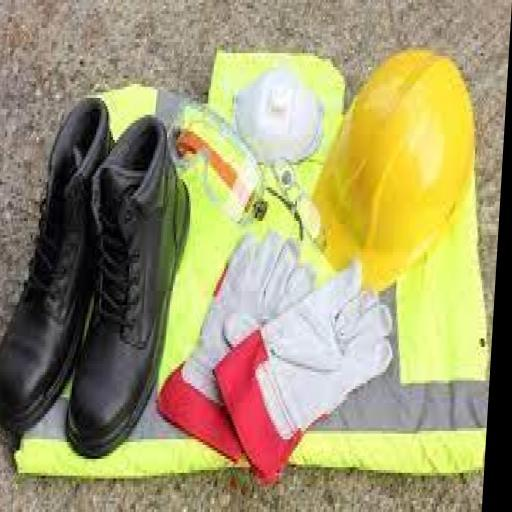safety_boots: (12, 92, 187, 490)
